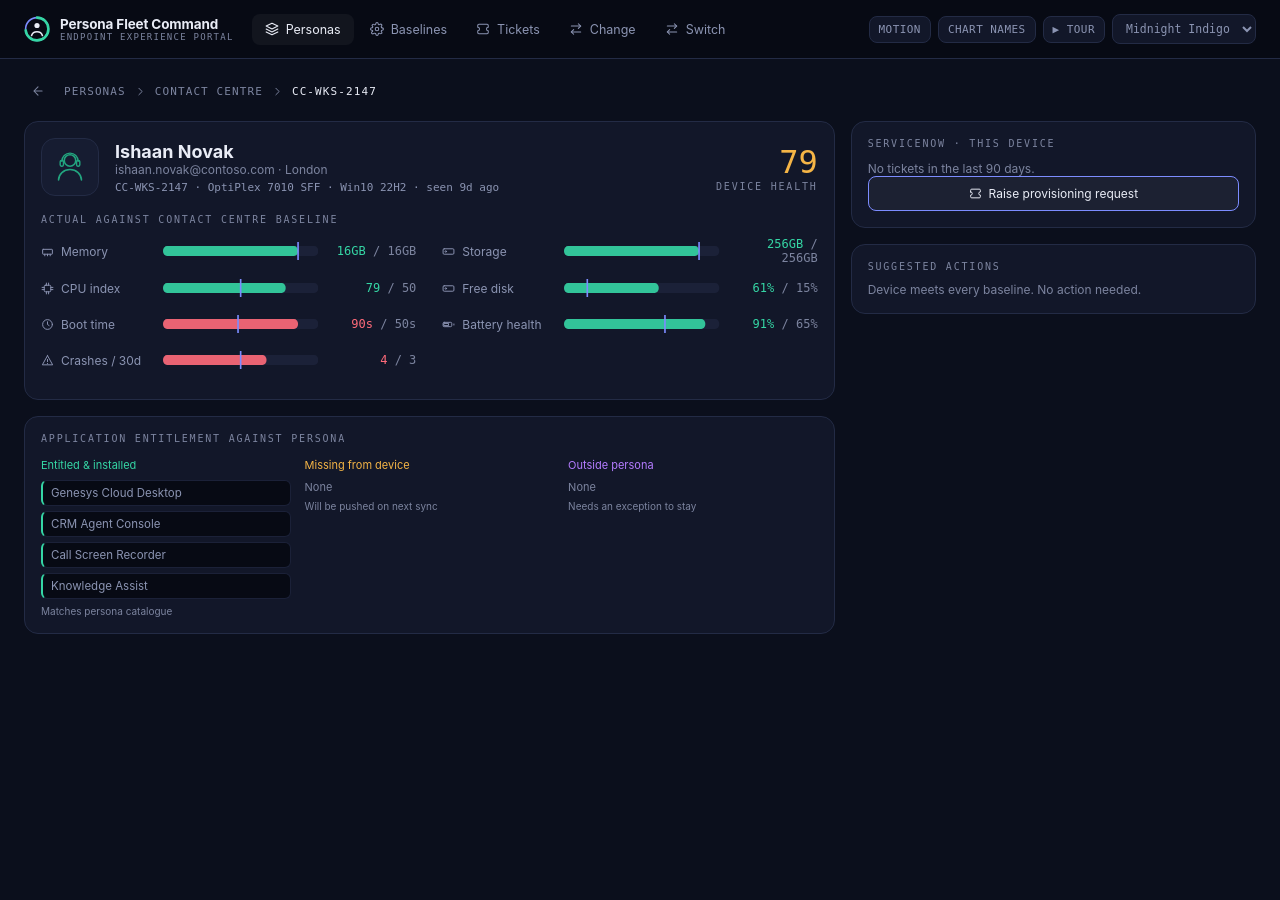
it: device page › raises a provisioning request and shows the ticket number
Expected: the text "Device health" is shown, [716,180,818,192]
Click the button "Raise provisioning request": point(1053, 194) [868,176,1239,211]
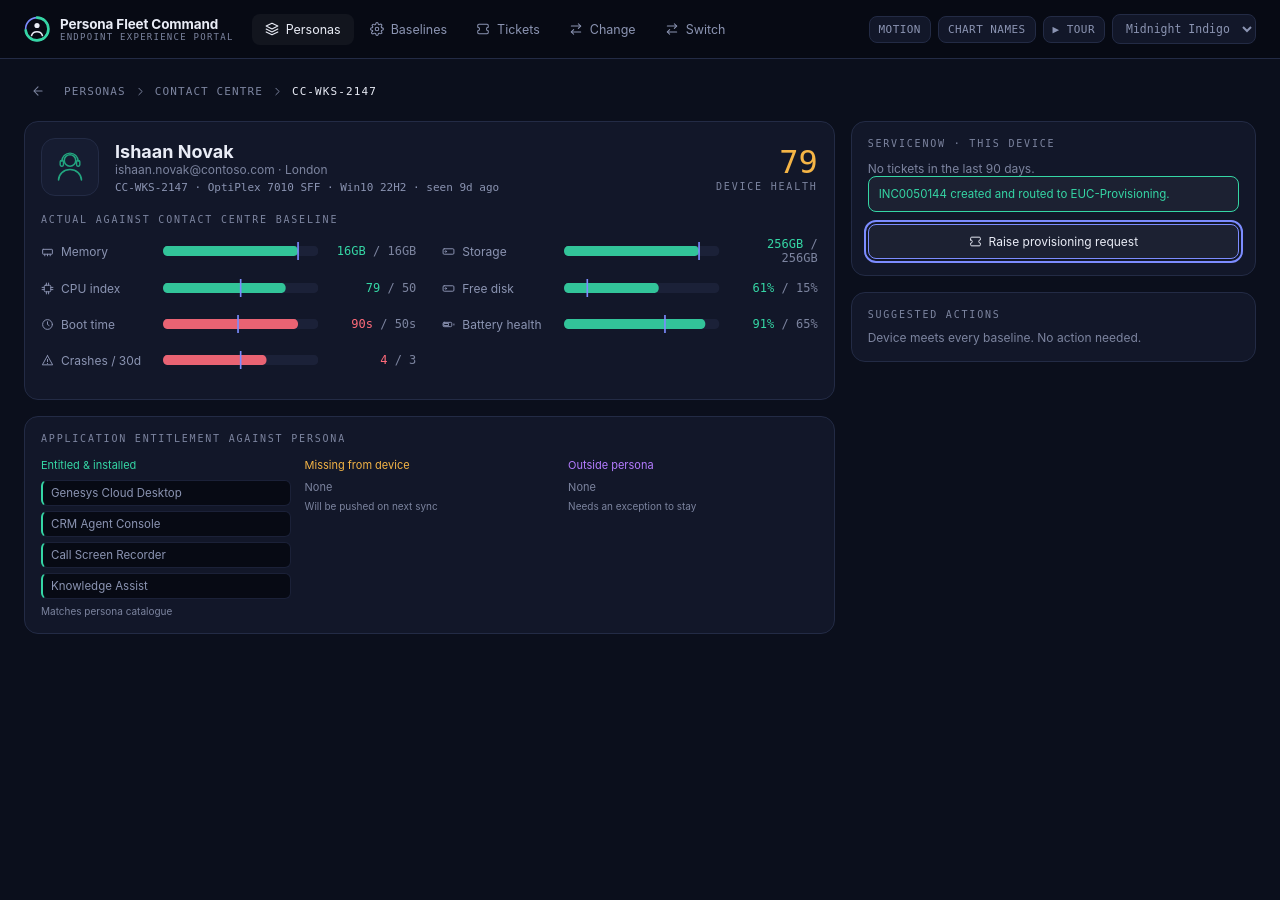
Expected: the message reads "INC0050144 created and routed to EUC-Provisioning.", [868,176,1239,212]
